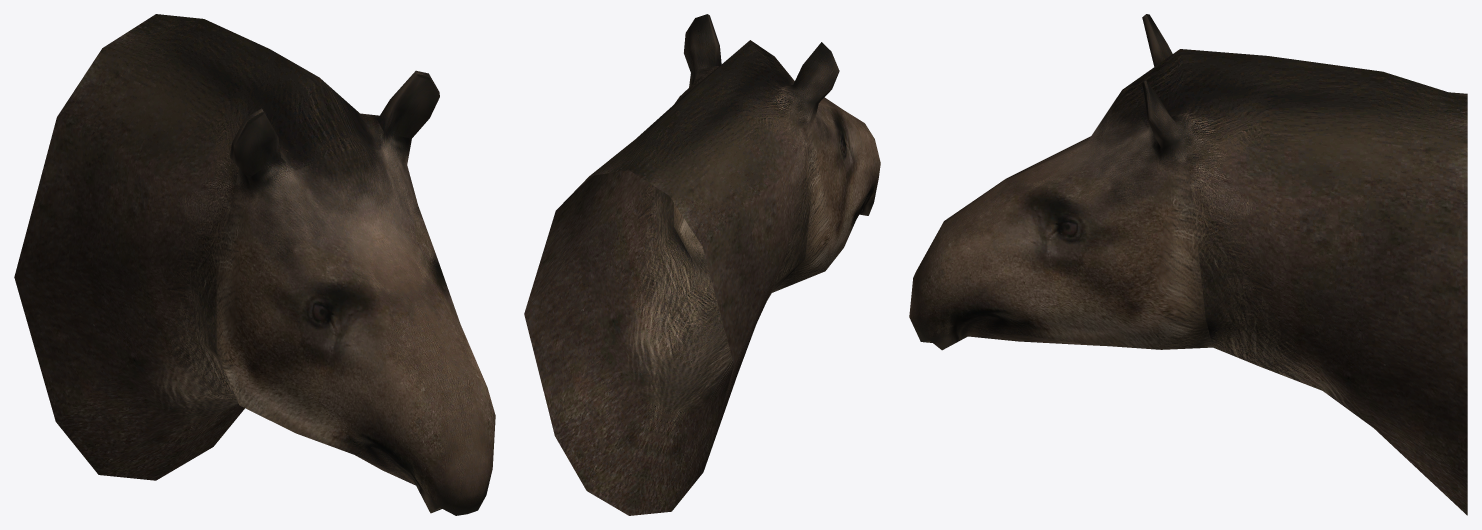
File: tapir.DAE
3 renders of one model, left to right at view 1: azimuth 30°, elevation 25°; view 2: azimuth 150°, elevation 25°; view 3: azimuth 270°, elevation 25°, orthographic. The views are drawn at different scales.
Parts seen in each view (by area): view 1: Box001; view 2: Box001; view 3: Box001.
Boxes of the visible parts, x1,y1,x2,y2 form: Box001: (14, 14, 495, 515); Box001: (524, 14, 880, 515); Box001: (909, 14, 1467, 515).
Bounding box in the file's own units: 778 × 1510 × 1378.
